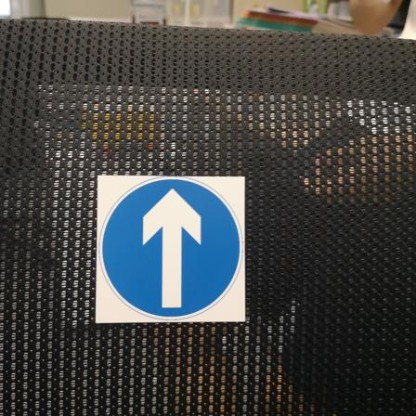forward: (93, 171, 245, 319)
